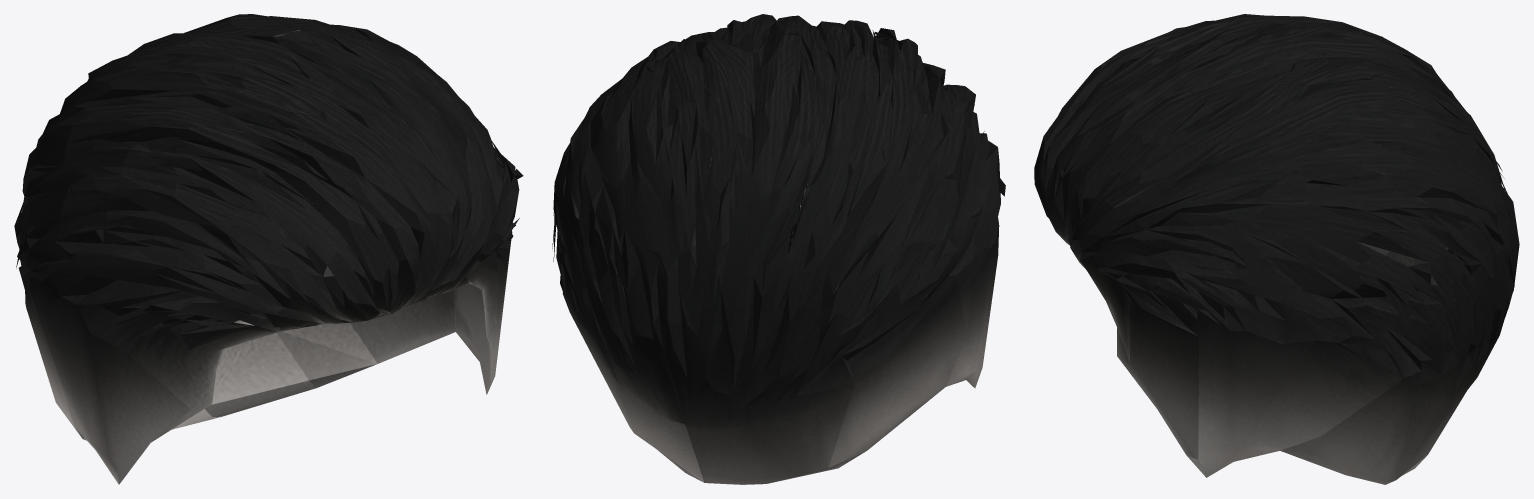
File: Meshy_AI_Slicked_Back_texture.glb
3 views of the same model, side by side, from view 1: azimuth 30°, elevation 25°; view 2: azimuth 150°, elevation 25°; view 3: azimuth 270°, elevation 25° (orthographic). The views are drawn at different scales.
Parts seen in each view (by area): view 1: output_unwrapped; view 2: output_unwrapped; view 3: output_unwrapped.
Part boxes in pixels (left/top/right/bottom): output_unwrapped: left=14, top=14, right=523, bottom=484; output_unwrapped: left=552, top=14, right=1005, bottom=484; output_unwrapped: left=1034, top=14, right=1519, bottom=484.
Bounding box in the file's own units: 1.89 × 1.77 × 1.9.
Materials: 1 (1 with a texture image).
